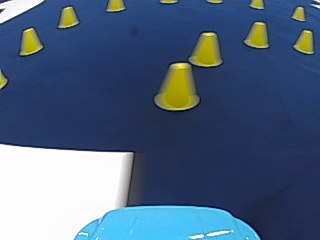cone: (155, 62, 199, 111), (189, 31, 223, 67), (18, 27, 43, 55), (244, 21, 269, 48), (294, 29, 314, 54), (57, 5, 78, 28), (106, 0, 124, 12), (291, 6, 305, 20), (249, 0, 263, 9)
